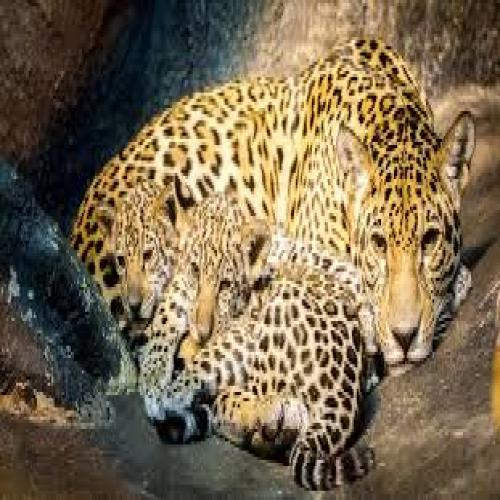jaguar_not-endangered: (75, 33, 476, 382), (179, 200, 380, 479), (87, 190, 187, 410)
